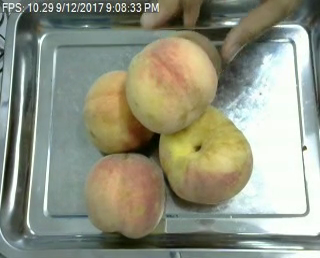Peach: (125, 33, 216, 134), (161, 105, 251, 204), (85, 152, 166, 239), (84, 69, 152, 154)
